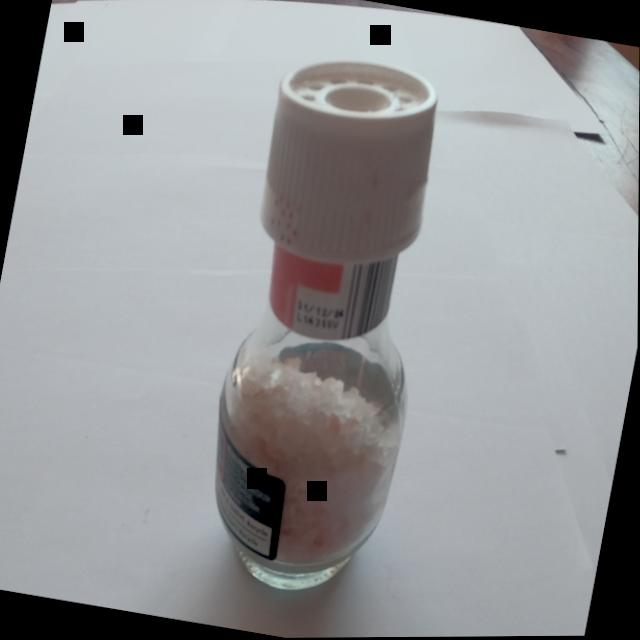Salt: (170, 25, 489, 630)
